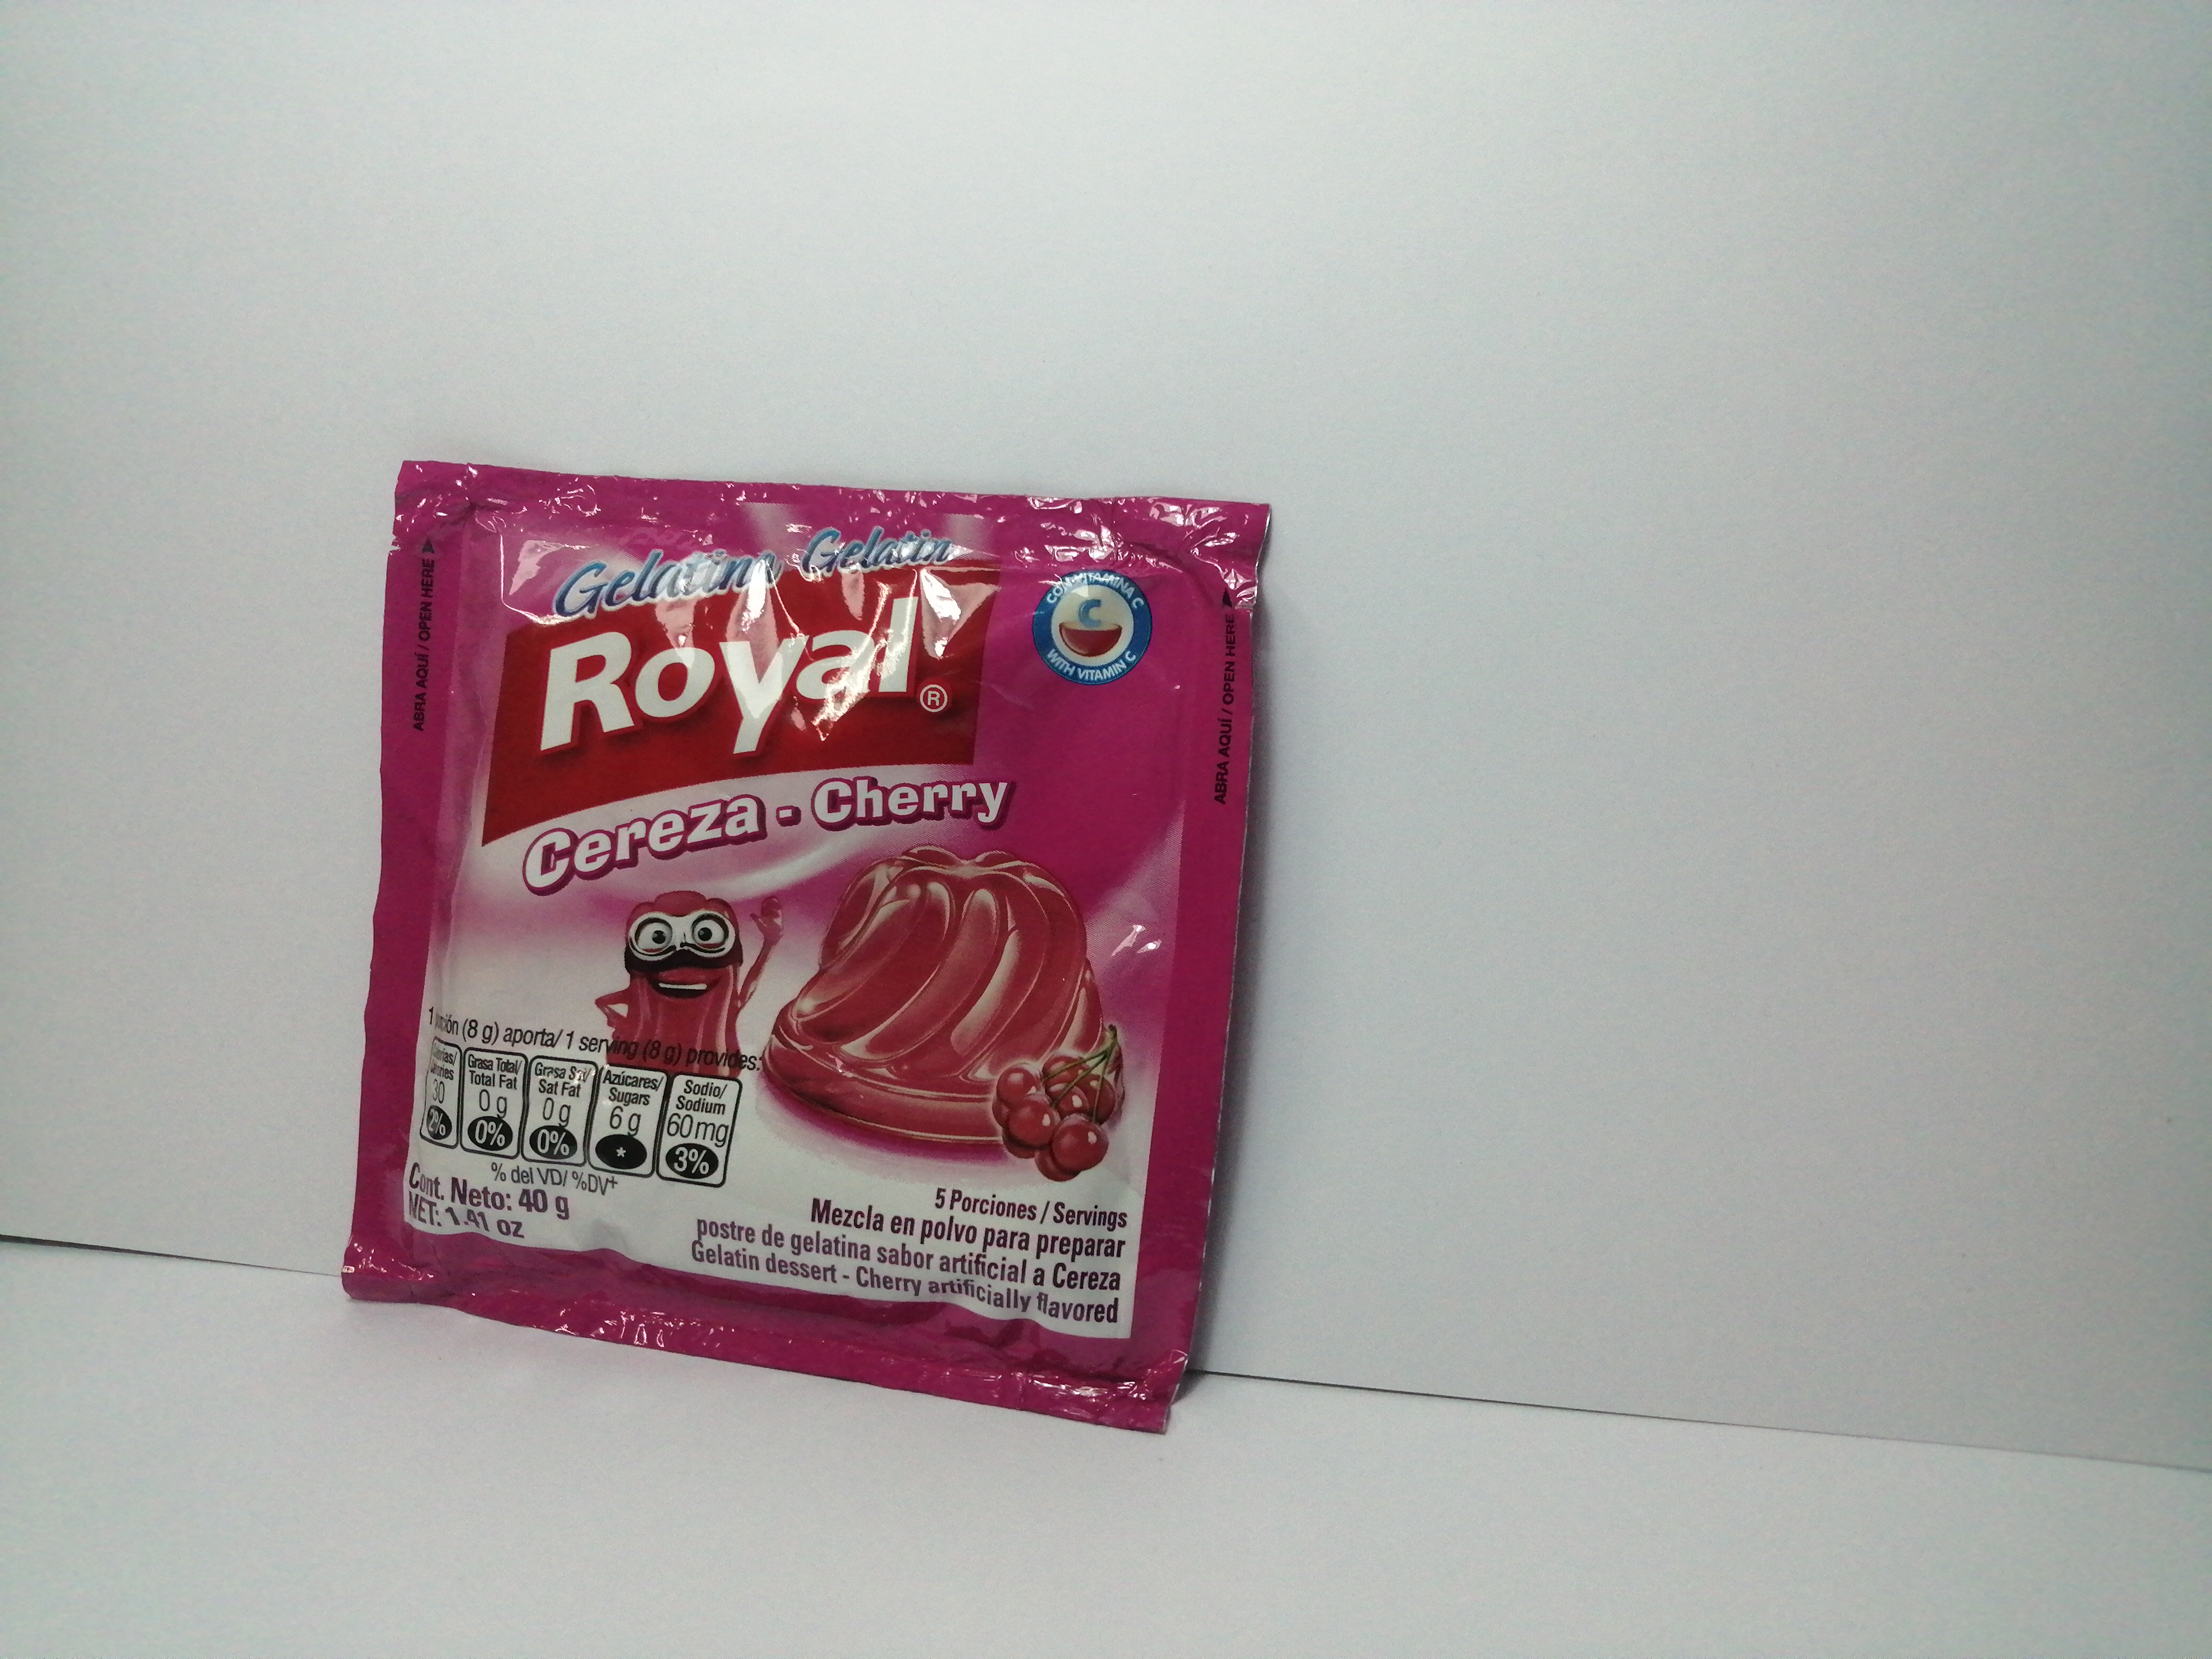gelatina: (336, 457, 1270, 1445)
